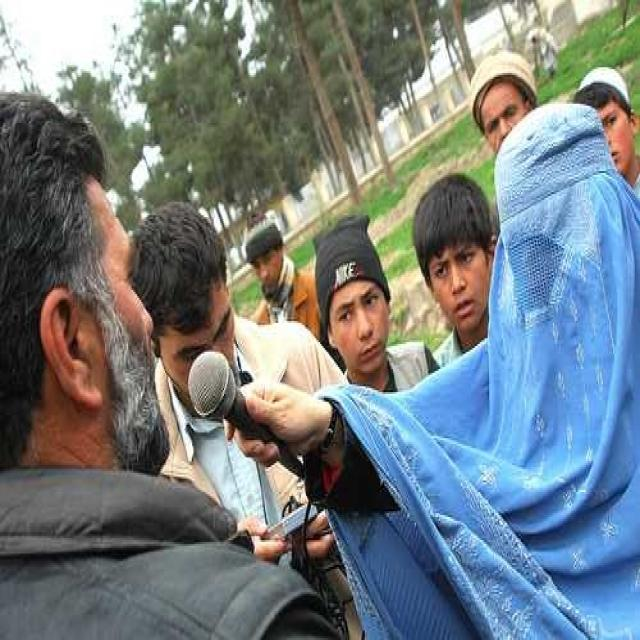microphone: (187, 352, 301, 478)
